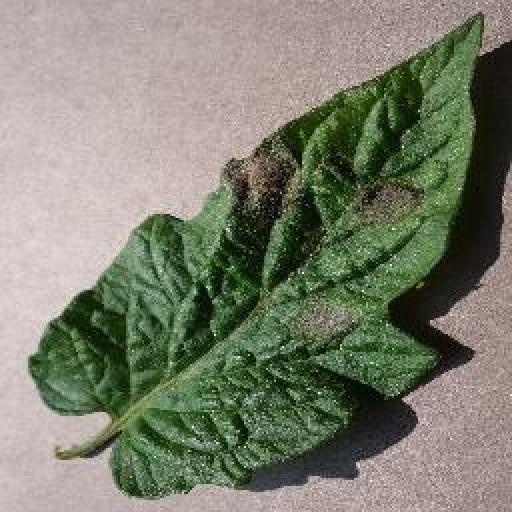Late Blight: (32, 10, 483, 498)
